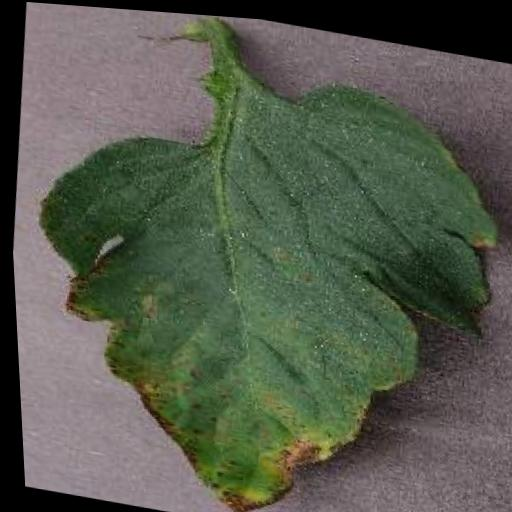Bacterial Spot: (1, 24, 512, 512)
